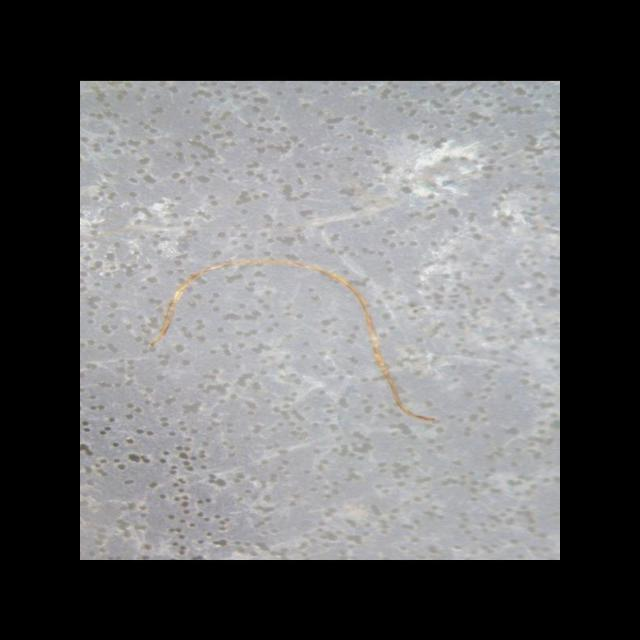Fibre: (147, 260, 437, 422)
